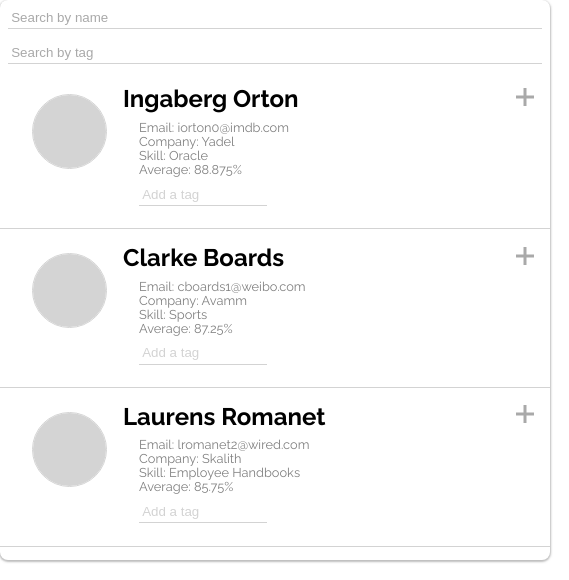
Test: Search should show filtered results › should filter by tag
# add a tag "test" to first card
Type "test" into the field with placeholder "Add a tag" below "88.875" at coordinates (203, 194), box [139,183,267,206]
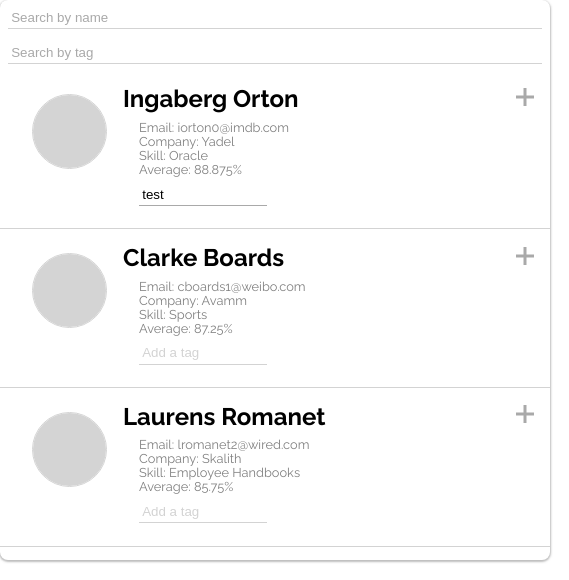
Press Enter
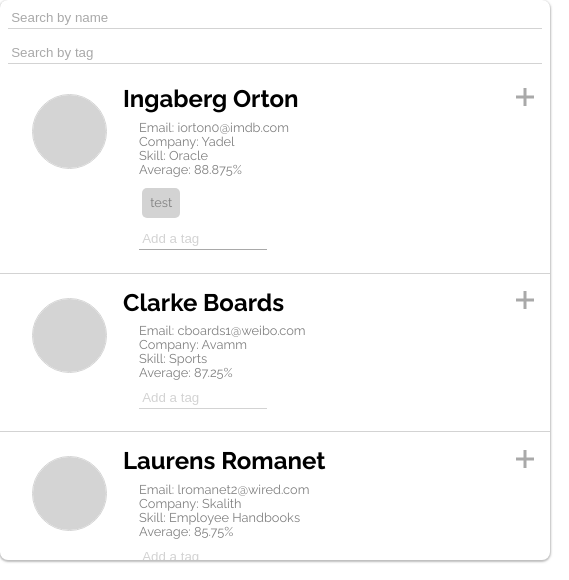
# enter test in tag search bar
Type "test" into the field with placeholder "Search by tag" at coordinates (275, 53), box [8,42,542,64]
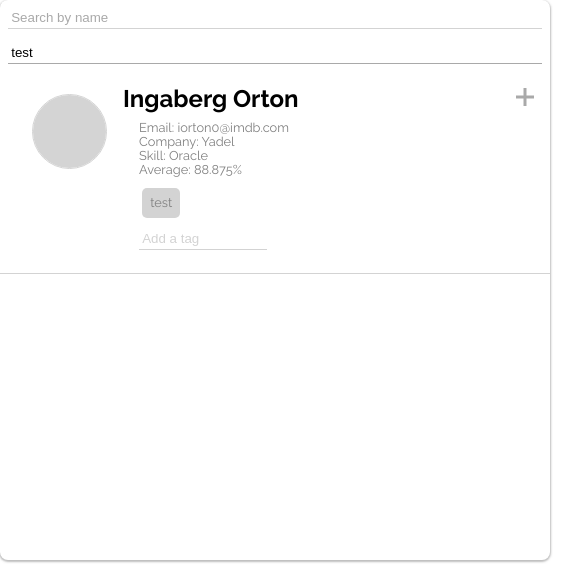
expect the number of list items with test id "student-list-item" is 1: met, box [0,70,550,274]
